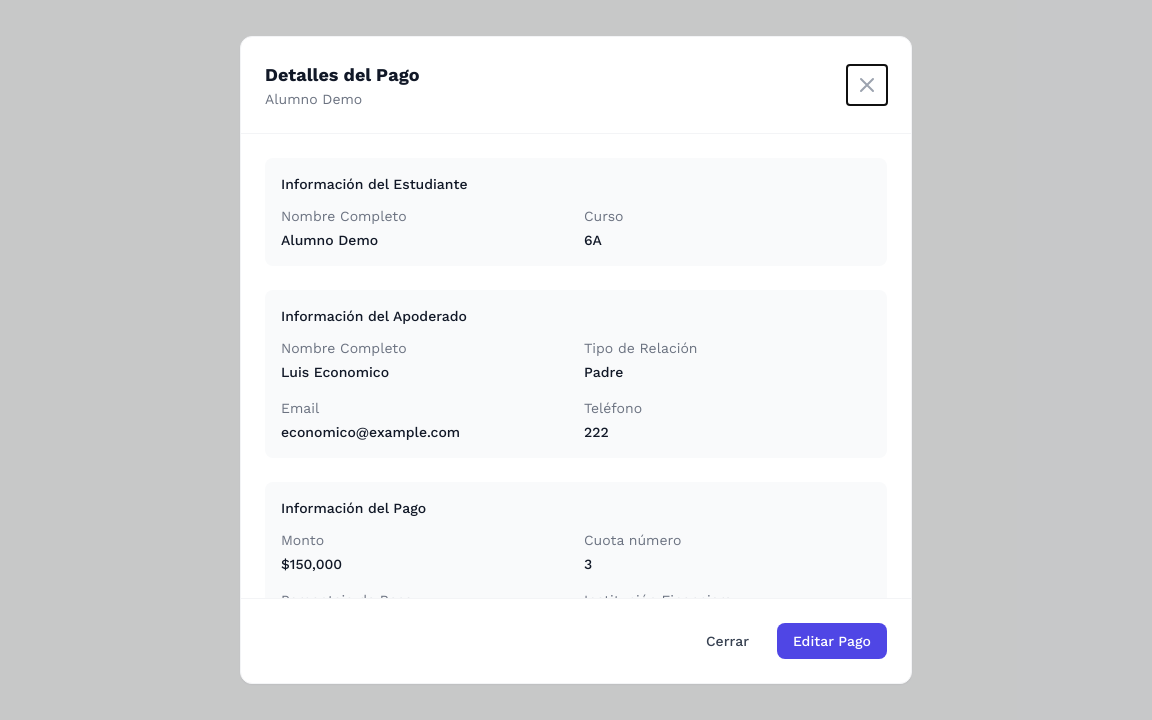
Test: PaymentDetailsModal › envia automaticamente el recibo al apoderado economico cuando cambia a pagado
Later steps or results of the test are not shown.
expect the text "economico@example.com" is shown: met, box [281,424,460,440]
Click the button "Editar Pago" at (832, 641), box [777,623,887,659]
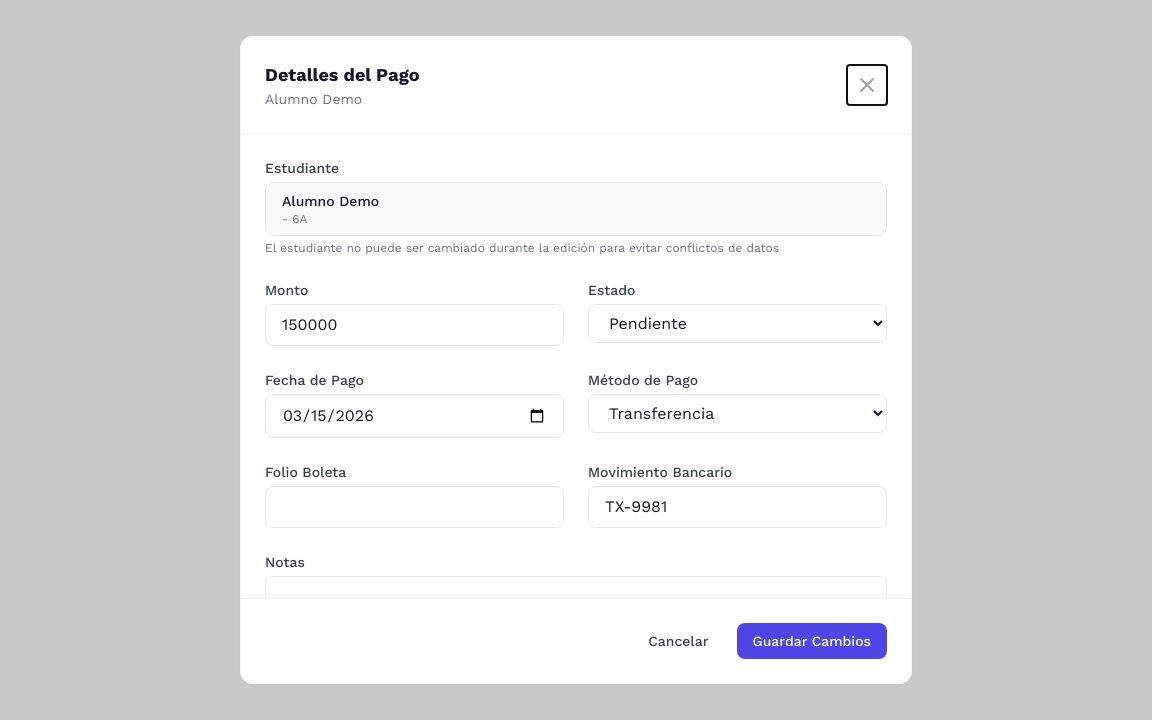
expect the dropdown named "status" below "Estado" is shown: met, box [588,304,887,343]
